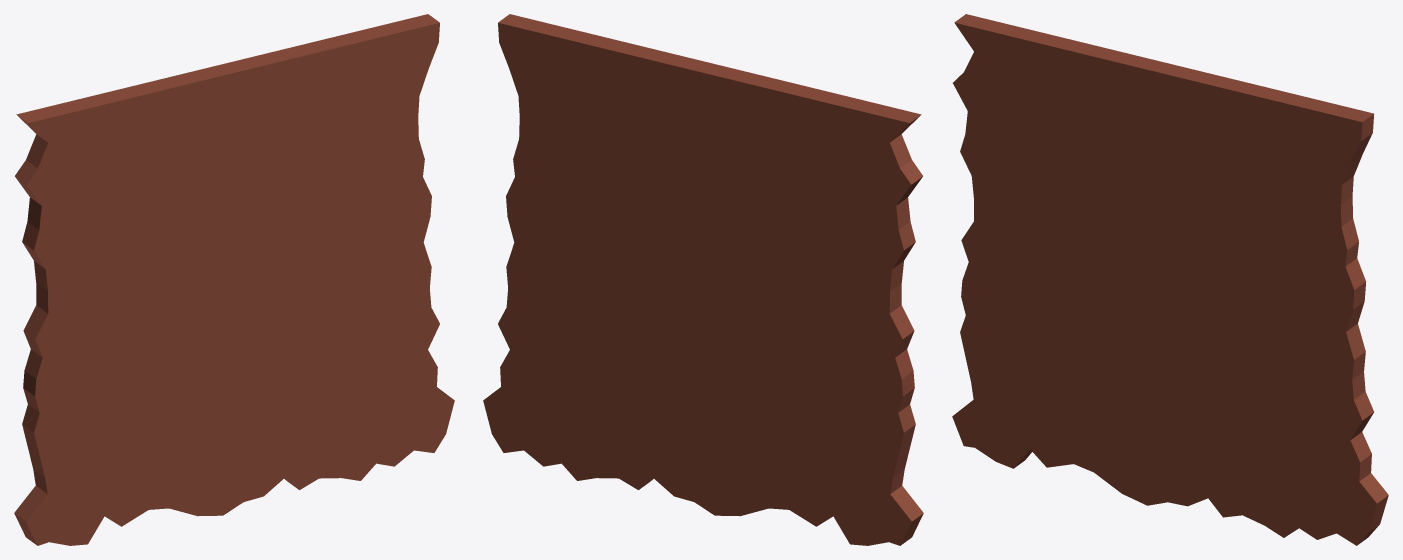
The model's file is tile14.001.glb.
3 renders of one model, left to right at view 1: azimuth 30°, elevation 25°; view 2: azimuth 150°, elevation 25°; view 3: azimuth 330°, elevation 25°, orthographic.
Parts seen in each view (by area): view 1: 14.001; view 2: 14.001; view 3: 14.001.
Boxes of the visible parts, bbox=[...] form: 14.001: bbox=[14, 14, 454, 545]; 14.001: bbox=[483, 14, 923, 545]; 14.001: bbox=[952, 14, 1388, 545].
Size of the model in its own units: 2.08 by 2.04 by 0.1.
Materials: 1 (1 with a texture image).
